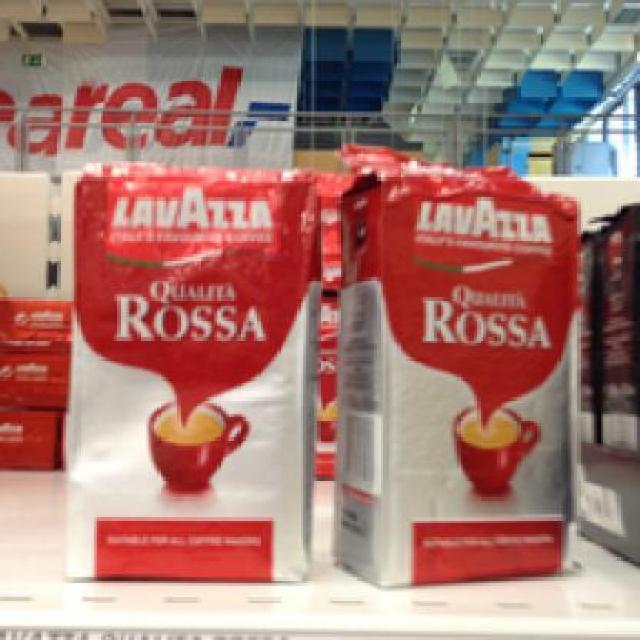Coffee: (334, 166, 577, 588), (66, 166, 314, 574)
